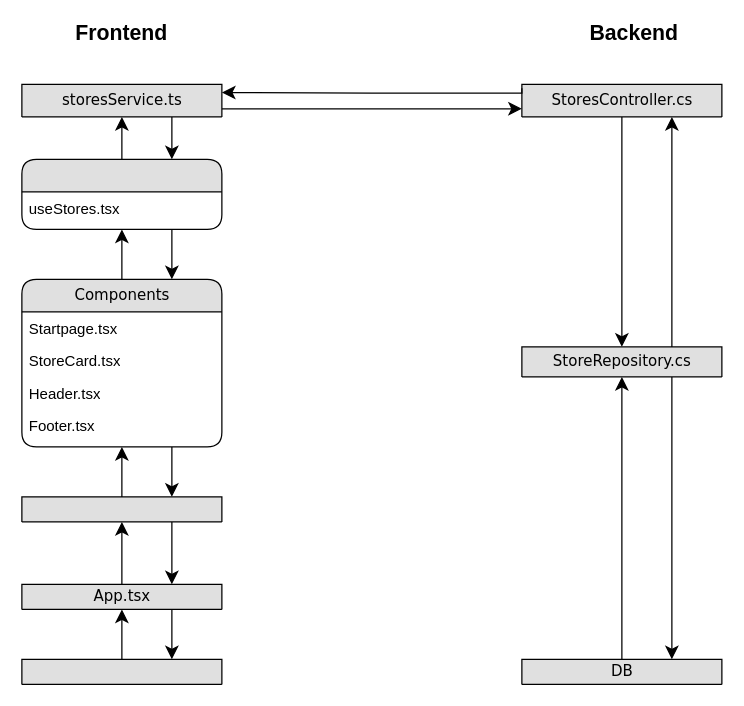
The diagram is 744 pixels wide and 706 high, and some of its shapes have lost their labels. The box of each missing label's shape, as (x1, y1, x2, y2) in pixels:
AppRouter.tsx: (21, 496, 222, 522)
hooks: (21, 158, 222, 229)
index.tsx: (21, 658, 222, 684)
